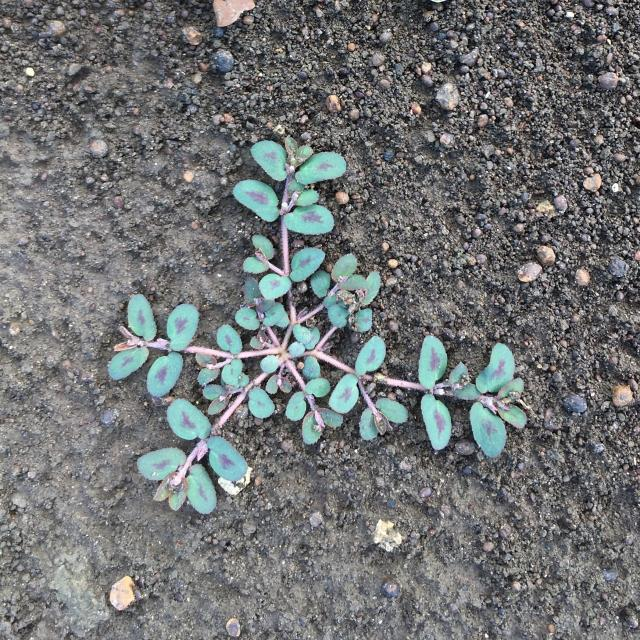SpottedSpurge: (108, 136, 528, 515)
